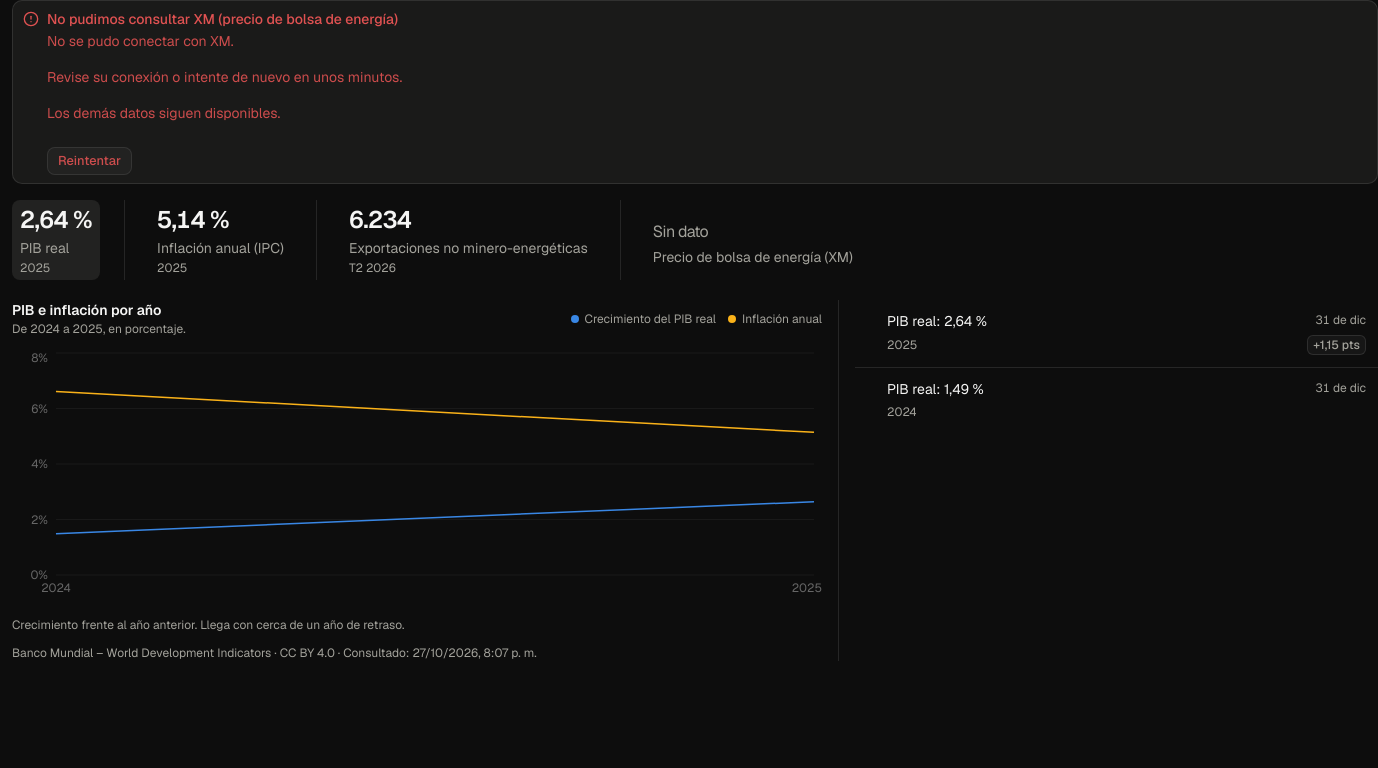
MacroView › shows one indicator at a time: selecting exports swaps the chart, the note and the history
What coordinates should you click on to do the following:
click the button "6.234 Exportaciones no minero-energéticas T2 2026"
I would click on:
 (468, 240)
Its box is [341,200,596,280].
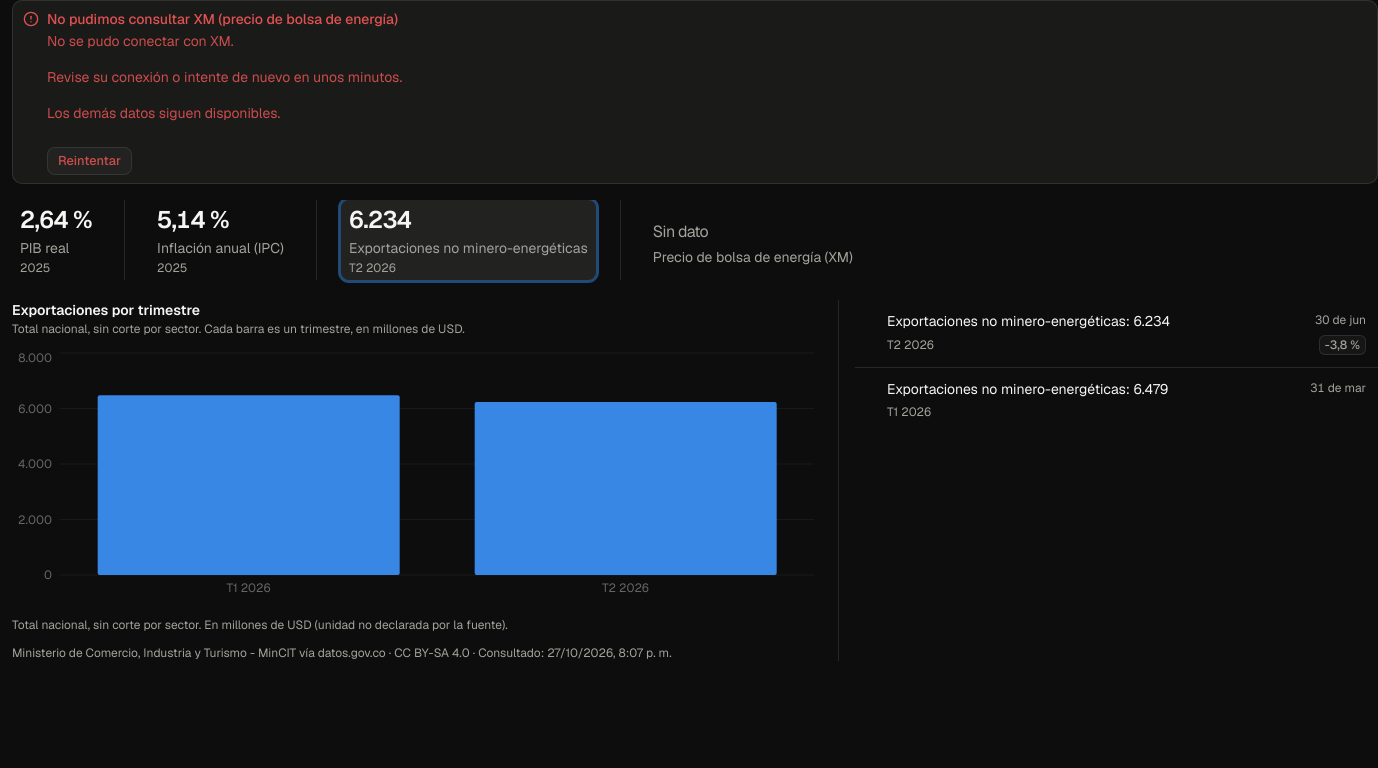
Now the text "Total nacional" is shown, box [12,321,465,337]
Now the text "unidad no declarada por la fuente" is shown, box [12,617,508,633]
Now the text "MinCIT vía datos.gov.co · CC BY-SA 4.0" is shown, box [12,645,672,661]
